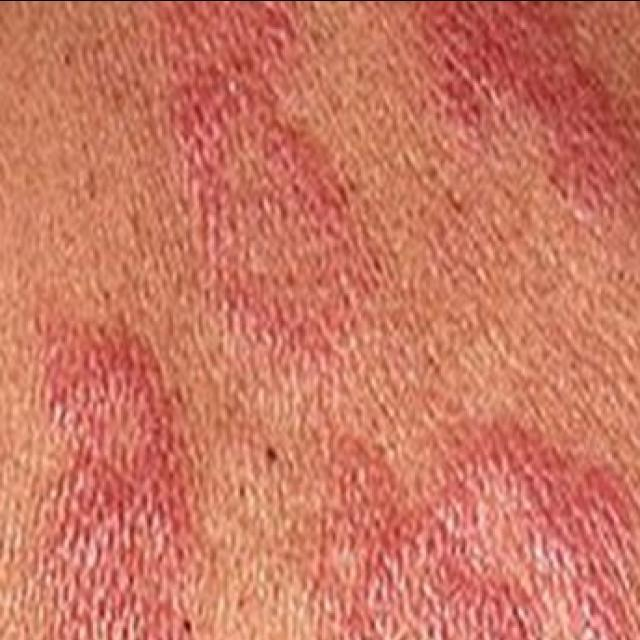Leprosy: (164, 0, 394, 392), (318, 415, 640, 640), (400, 0, 640, 266), (33, 312, 199, 640)
